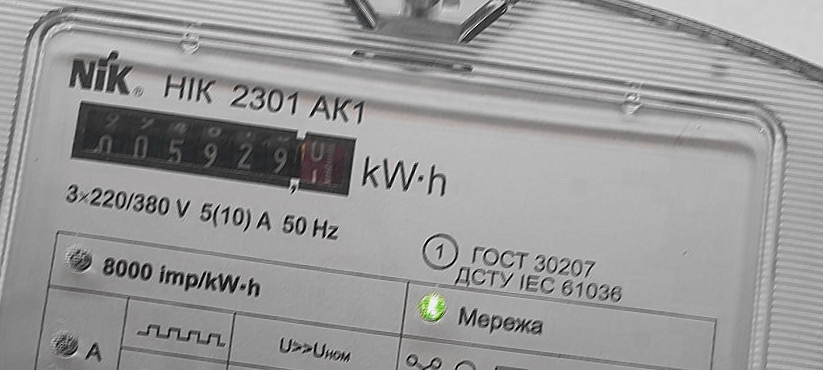0: (131, 131, 153, 161), (94, 129, 118, 154), (308, 138, 329, 163)
2: (234, 138, 257, 173)
5: (166, 135, 187, 165)
9: (198, 138, 222, 170), (270, 143, 292, 177), (102, 110, 122, 130)
screen: (64, 94, 366, 206)
